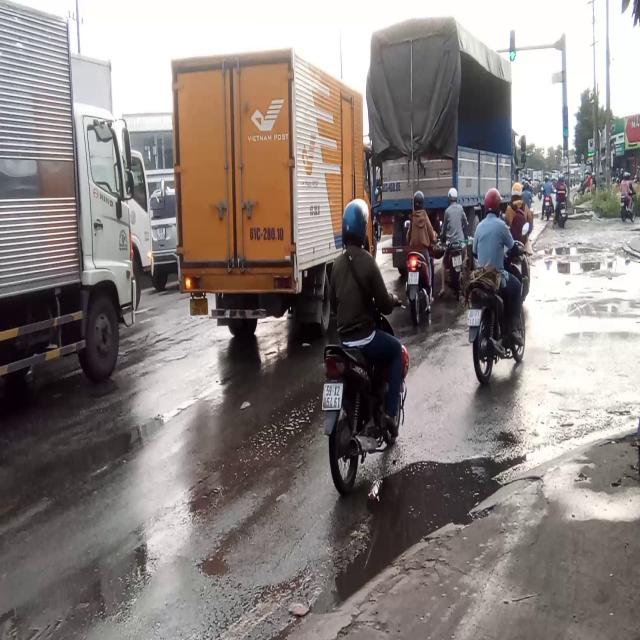bien_trang: (322, 379, 344, 410)
